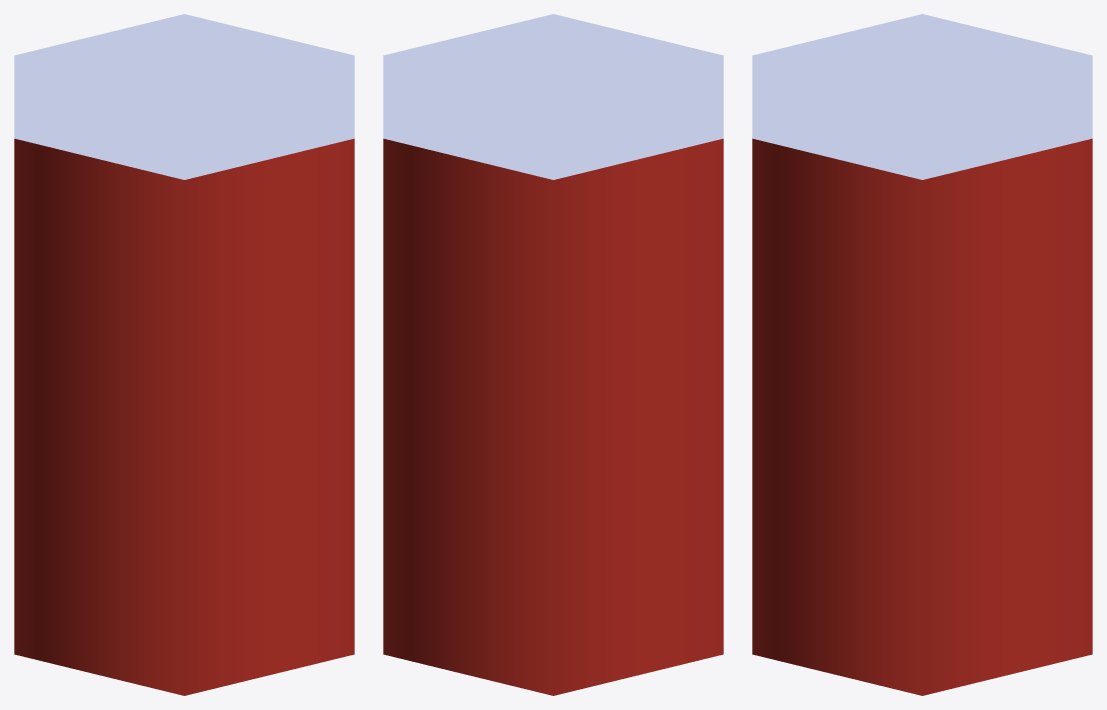
The model's file is SM_Cannette.fbx.
3 views of the same model, side by side, from view 1: azimuth 30°, elevation 25°; view 2: azimuth 150°, elevation 25°; view 3: azimuth 270°, elevation 25° (orthographic).
Parts seen in each view (by area): view 1: Cannette; view 2: Cannette; view 3: Cannette.
Part boxes in pixels (left/top/right/bottom): Cannette: left=14, top=14, right=354, bottom=695; Cannette: left=383, top=14, right=723, bottom=695; Cannette: left=752, top=14, right=1092, bottom=695.
Size of the model in its own units: 6.4 by 9.26 by 5.54.
